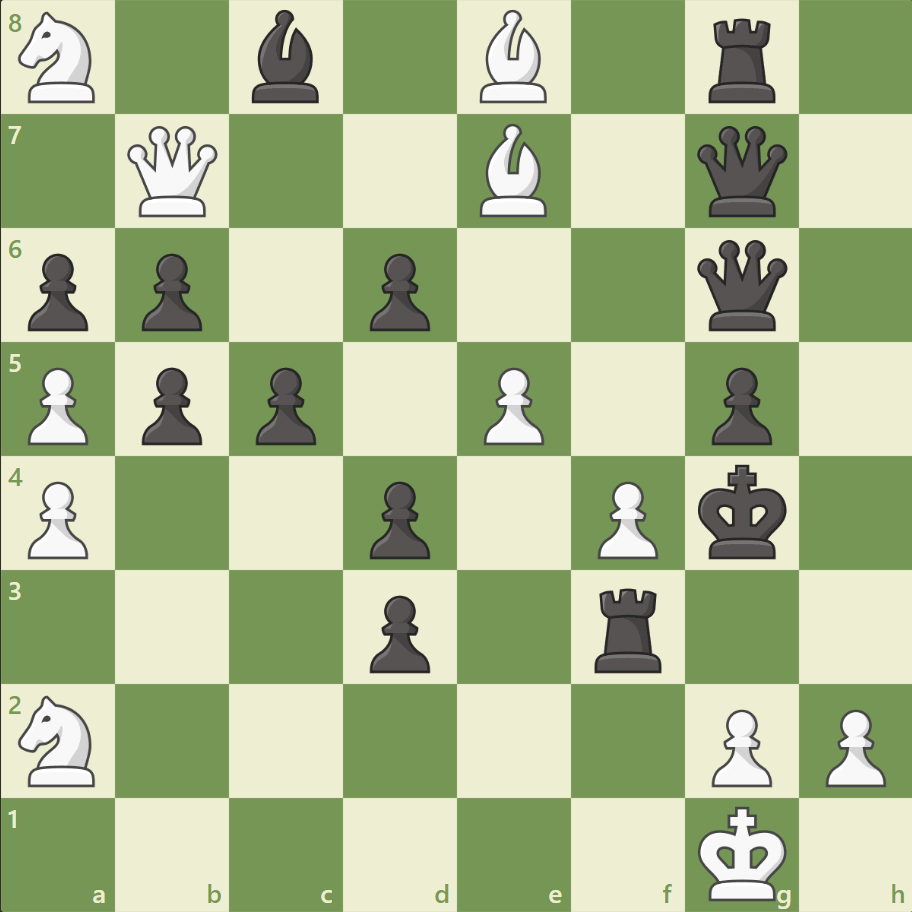B: (471, 6, 555, 109), (471, 120, 555, 222)
K: (692, 798, 792, 906)
N: (11, 7, 108, 110), (11, 688, 108, 791)
P: (20, 359, 95, 450), (474, 359, 549, 450), (20, 473, 95, 564), (701, 700, 776, 791), (588, 473, 662, 564), (815, 700, 889, 791)
Q: (124, 122, 223, 222)
b: (244, 6, 328, 109)
k: (692, 458, 792, 566)
p: (20, 246, 95, 337), (133, 246, 208, 337), (133, 359, 208, 450), (247, 359, 322, 450), (701, 359, 776, 450), (361, 246, 435, 337), (361, 473, 435, 564), (361, 586, 435, 677)
q: (691, 122, 790, 222), (691, 236, 790, 335)
r: (700, 12, 783, 109), (587, 579, 670, 676)
